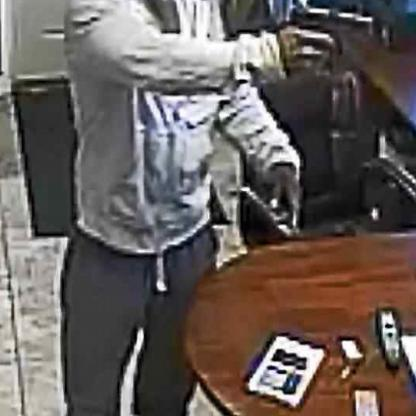gun: (291, 3, 375, 76)
